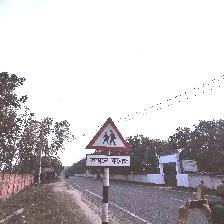College-in-front: (89, 109, 148, 190)
